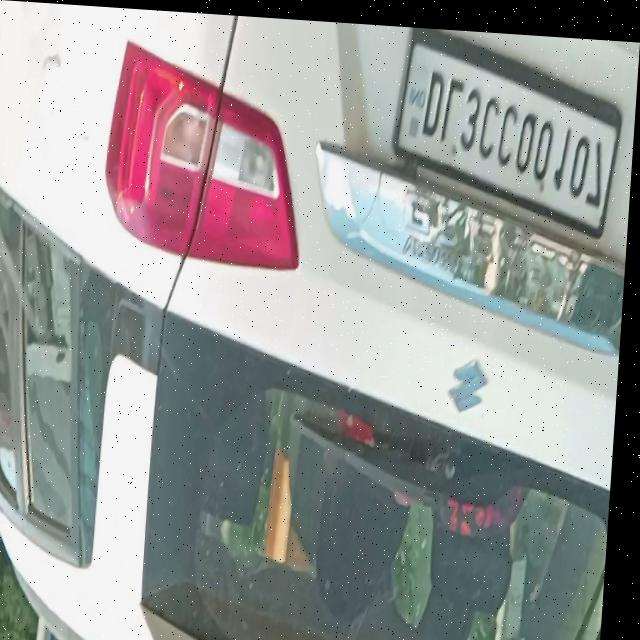plate: (389, 21, 628, 235)
